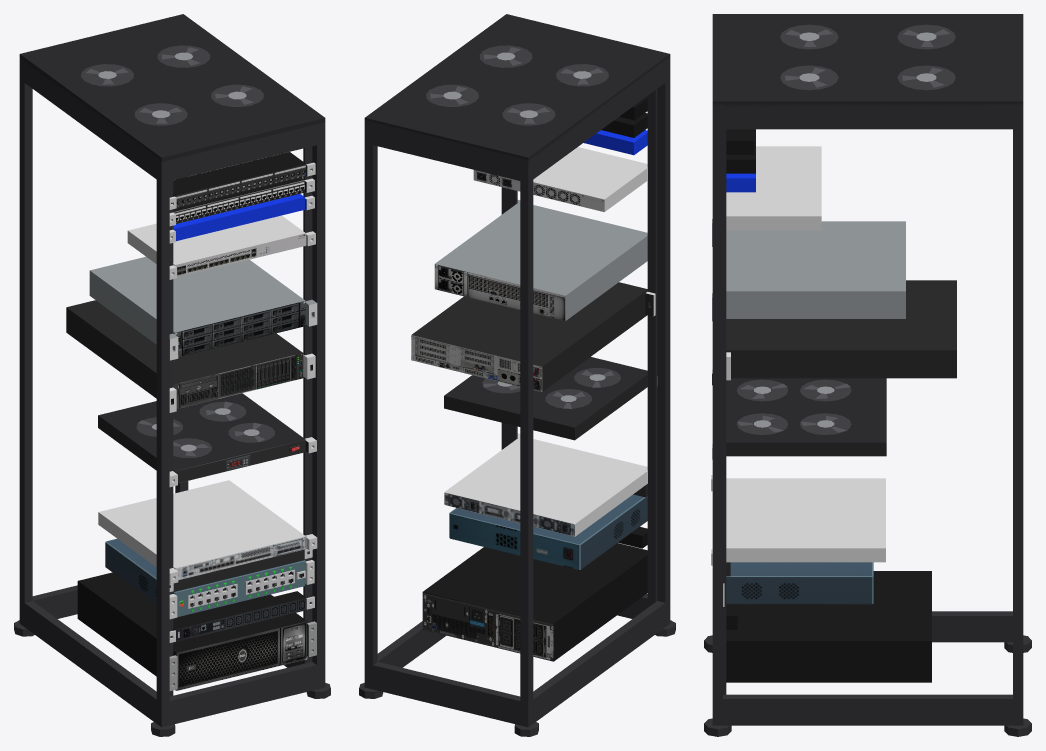
The model's file is ServerRackV4.fbx.
3 renders of one model, left to right at view 1: azimuth 30°, elevation 25°; view 2: azimuth 150°, elevation 25°; view 3: azimuth 270°, elevation 25°, orthographic. The views are drawn at different scales.
Parts seen in each view (by area): view 1: Rack_Roof_Fan_Cover, Dev_NAS_1, Dev_UPS_GE_VH3000, Dev_Firewall_1, Dev_Server_1, Dev_Fan_Tray_1, Rack_Post_FL, Rack_Post_BL, Rack_Post_FR, Router, Rack_BotBar_Front, Rack_BotBar_Left (+13 smaller); view 2: Rack_Roof_Fan_Cover, Dev_UPS_GE_VH3000, Dev_NAS_1, Dev_Server_1, Dev_Firewall_1, Dev_Fan_Tray_1, Rack_Post_BR, Rack_Post_BL, Rack_Post_FL, Outpust2, Router, Rack_Post_FR.002 (+7 smaller); view 3: Rack_Roof_Fan_Cover, Dev_UPS_GE_VH3000, Dev_NAS_1, Dev_Server_1, Dev_Firewall_1, Dev_Fan_Tray_1, Rack_BotBar_Right, Rack_TopBar_Right, Router, Rack_Post_FR, Rack_Post_BR, Outpust2 (+5 smaller).
Boxes of the visible parts, box(x1,y1,x2,y2) form: Rack_Roof_Fan_Cover: box(19, 14, 325, 162); Dev_NAS_1: box(89, 256, 317, 360); Dev_UPS_GE_VH3000: box(77, 572, 316, 690); Dev_Firewall_1: box(98, 480, 317, 584); Dev_Server_1: box(66, 300, 315, 412); Dev_Fan_Tray_1: box(98, 393, 316, 487); Rack_Post_FL: box(156, 158, 169, 724); Rack_Post_BL: box(19, 61, 32, 602); Rack_Post_FR: box(312, 122, 325, 664); Router: box(127, 215, 315, 279); Rack_BotBar_Front: box(156, 662, 316, 727); Rack_BotBar_Left: box(19, 600, 159, 723); Rack_Roof_Fan_Cover: box(364, 14, 670, 161); Dev_UPS_GE_VH3000: box(422, 543, 647, 661); Dev_NAS_1: box(434, 200, 647, 320); Dev_Server_1: box(411, 282, 655, 391); Dev_Firewall_1: box(444, 433, 647, 536); Dev_Fan_Tray_1: box(444, 357, 657, 440); Rack_Post_BR: box(364, 120, 377, 687); Rack_Post_BL: box(520, 157, 533, 702); Rack_Post_FL: box(657, 60, 670, 625); Outpust2: box(449, 494, 647, 569); Router: box(473, 147, 647, 211); Rack_Post_FR.002: box(647, 89, 657, 607); Rack_Roof_Fan_Cover: box(712, 14, 1023, 106); Dev_UPS_GE_VH3000: box(726, 571, 931, 682); Dev_NAS_1: box(712, 219, 905, 321); Dev_Server_1: box(726, 280, 956, 380); Dev_Firewall_1: box(711, 475, 885, 565); Dev_Fan_Tray_1: box(712, 369, 886, 459); Rack_BotBar_Right: box(717, 694, 1022, 725); Rack_TopBar_Right: box(718, 104, 1017, 129); Router: box(726, 146, 821, 230); Rack_Post_FR: box(712, 104, 722, 711); Rack_Post_BR: box(1013, 104, 1023, 724); Outpust2: box(726, 562, 873, 604).
Size of the model in its own units: 0.65 by 2.02 by 0.95.
Materials: 69 (17 with a texture image).
